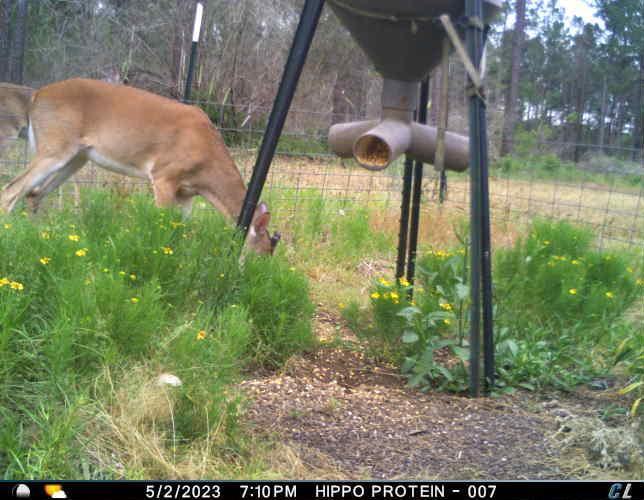Deer: (0, 77, 289, 265), (0, 79, 84, 214)
